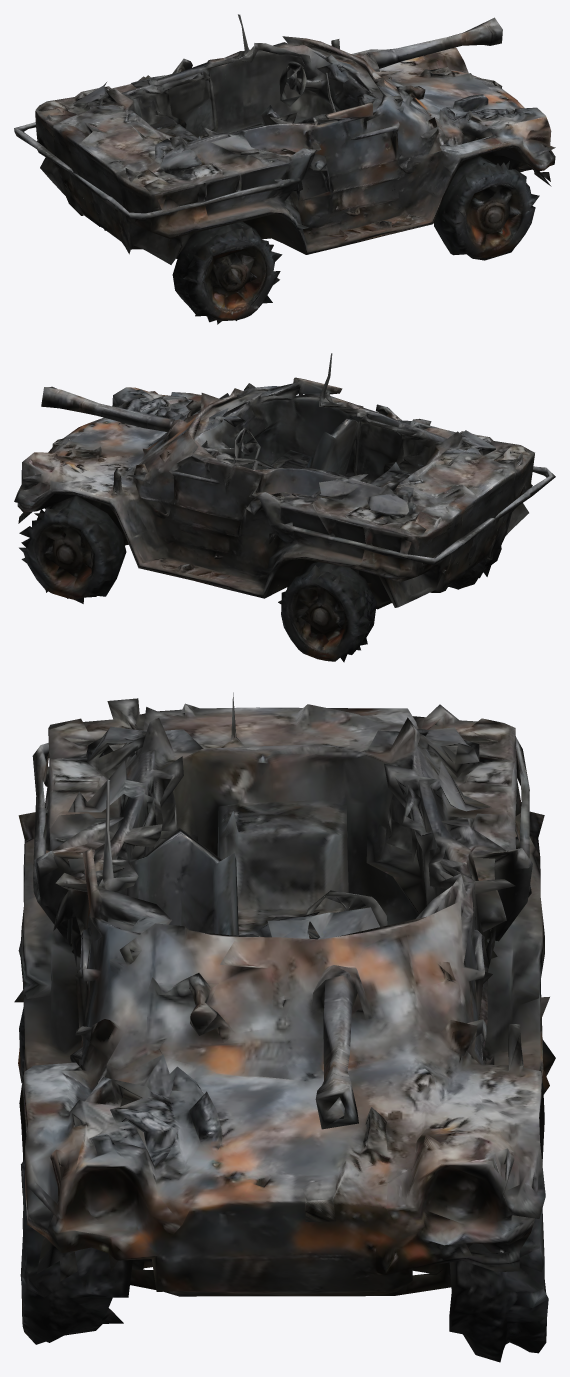
The model's file is wreck.glb.
3 views of the same model, one above another, from view 1: azimuth 30°, elevation 25°; view 2: azimuth 150°, elevation 25°; view 3: azimuth 270°, elevation 25° (orthographic). The views are drawn at different scales.
Parts seen in each view (by area): view 1: node_ddd7c0d5-6ca3-4cd2-b44d-092687165ccd; view 2: node_ddd7c0d5-6ca3-4cd2-b44d-092687165ccd; view 3: node_ddd7c0d5-6ca3-4cd2-b44d-092687165ccd.
Boxes of the visible parts, x1,y1,x2,y2 form: node_ddd7c0d5-6ca3-4cd2-b44d-092687165ccd: (14, 14, 555, 324); node_ddd7c0d5-6ca3-4cd2-b44d-092687165ccd: (14, 353, 555, 662); node_ddd7c0d5-6ca3-4cd2-b44d-092687165ccd: (14, 692, 555, 1362).
Size of the model in its own units: 1 by 0.4544 by 0.5389.
Materials: 1 (1 with a texture image).
